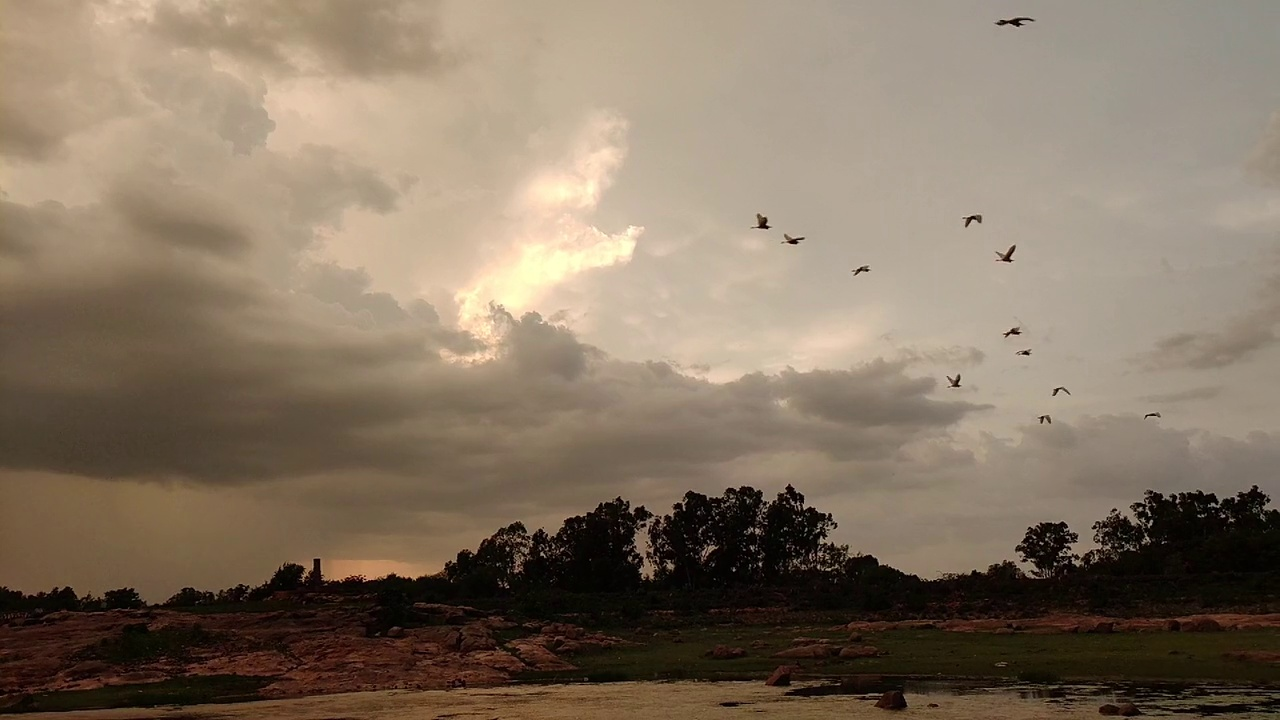bird: (995, 13, 1035, 27), (749, 212, 772, 230), (995, 244, 1016, 263), (778, 232, 803, 246), (960, 213, 981, 227), (1051, 384, 1072, 398), (850, 263, 870, 276), (1002, 325, 1022, 338), (945, 374, 963, 388), (1036, 413, 1053, 423), (1142, 412, 1161, 420), (1014, 348, 1031, 356)
